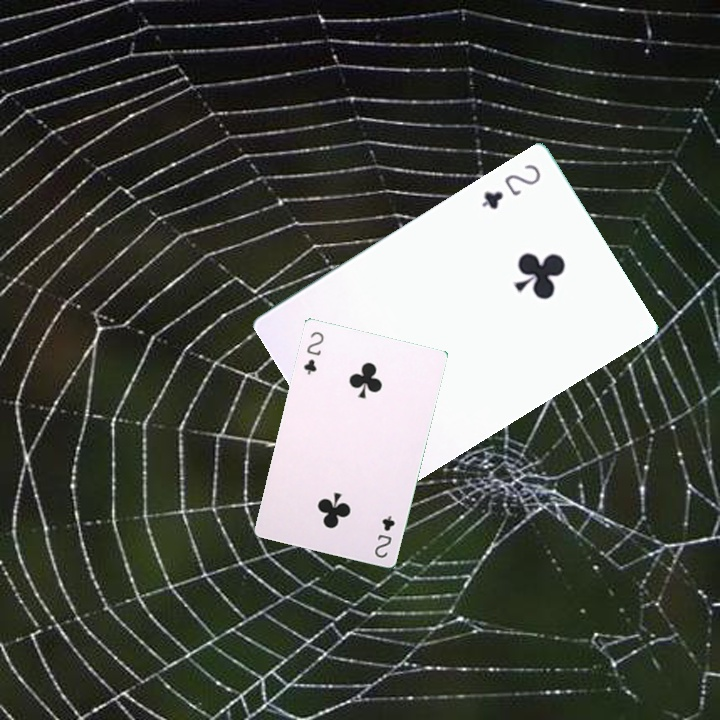2c: (477, 160, 544, 212), (299, 327, 326, 377), (370, 511, 397, 561)
